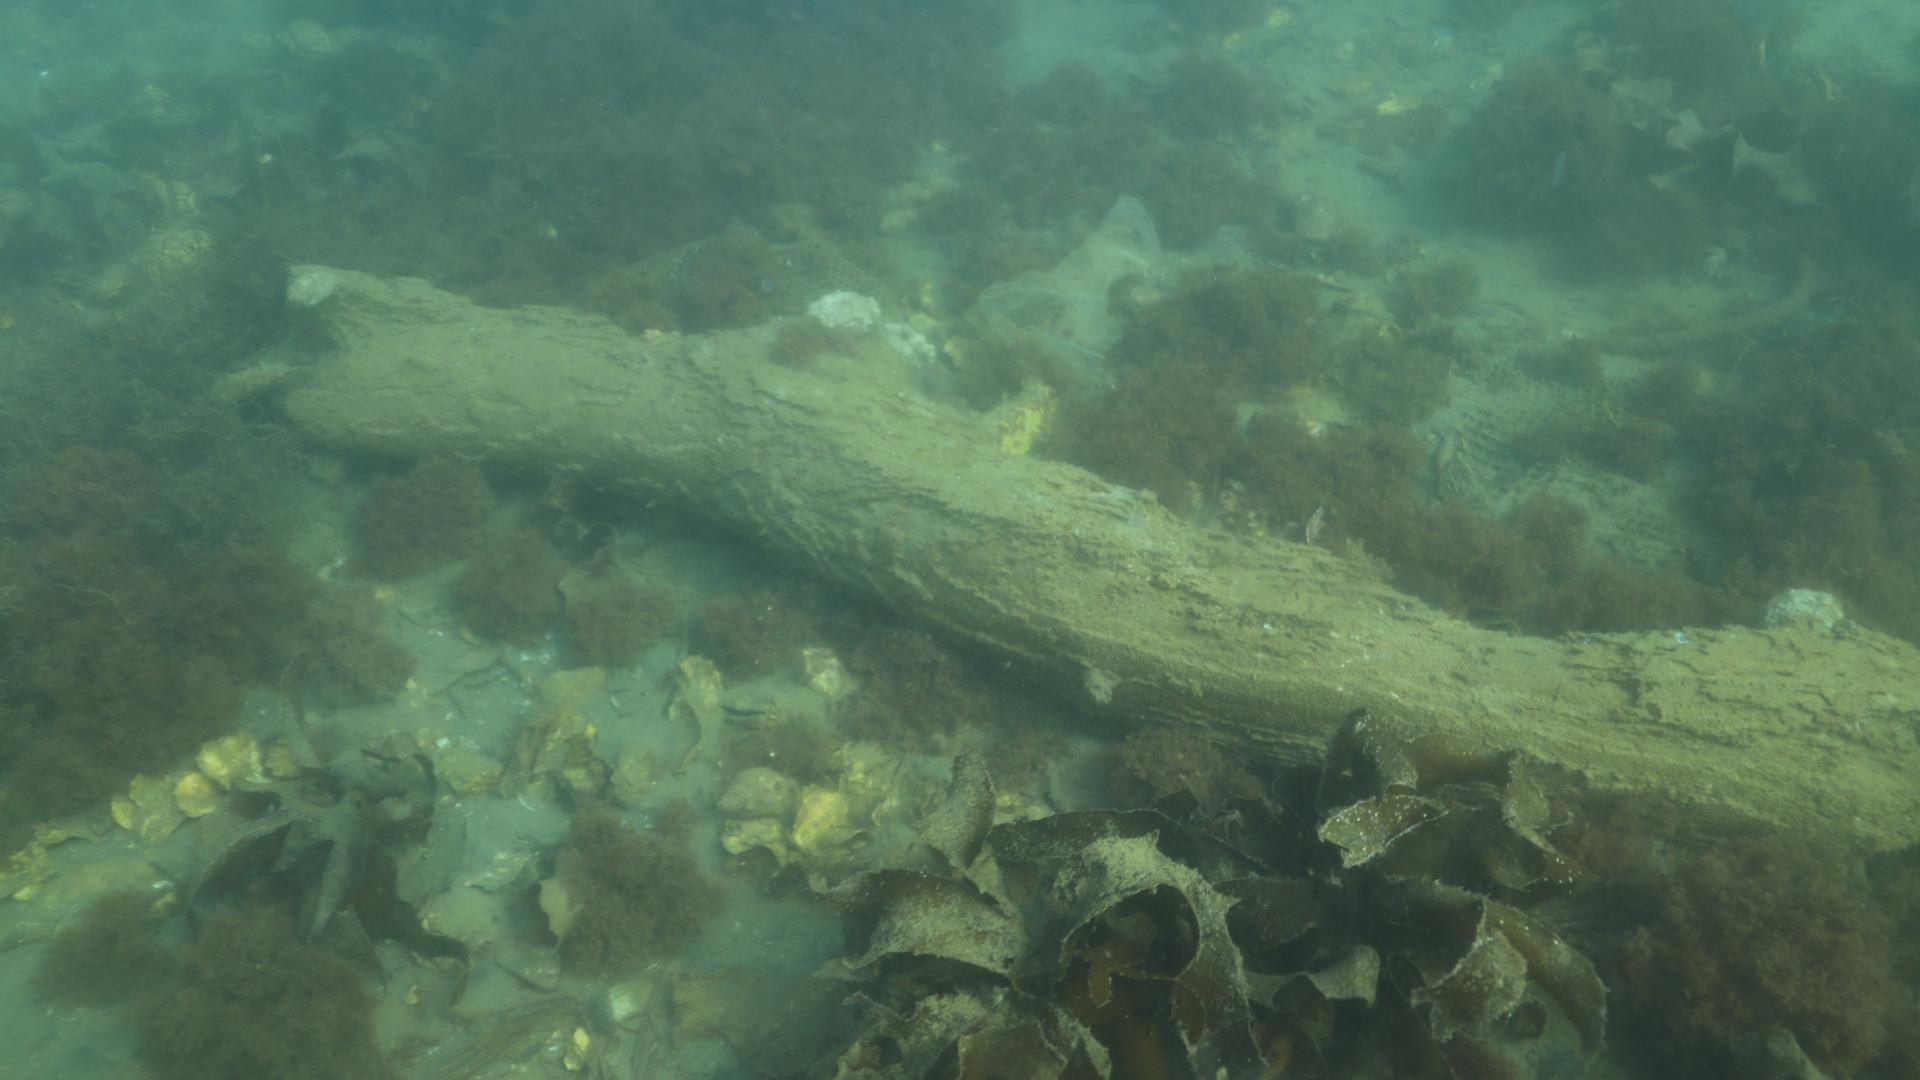fish net: (1453, 320, 1684, 549)
wood: (286, 260, 1920, 855)
